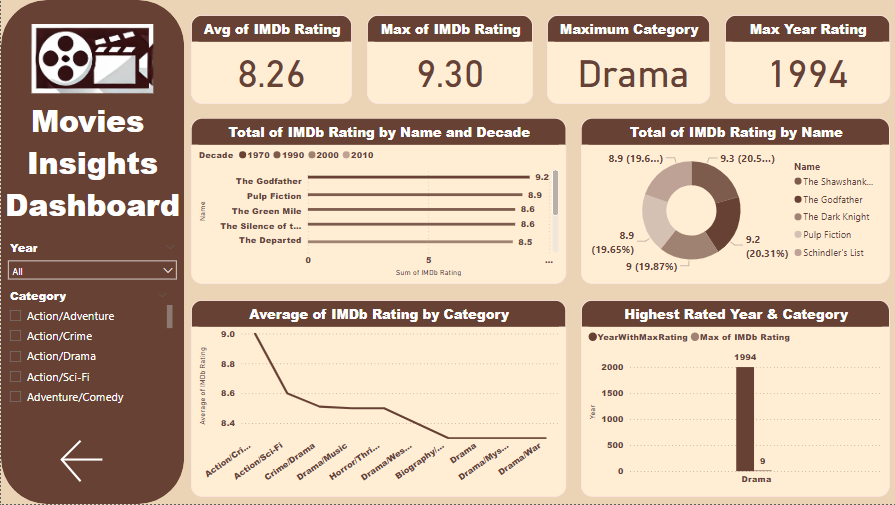

Layout of this report page (visuals, bound fields, positions):
{"tool":"powerbi","page":{"name":"Dashboard","canvas":[1280,720],"ordinal":1},"visuals":[{"type":"shape","box":[0,0,261.7,720],"z":0},{"type":"textbox","box":[0,0,261.4,720],"z":1000},{"type":"actionButton","box":[78.6,621.4,82.9,74.3],"z":2000},{"type":"slicer","fields":{"Values":["Movies.Category"]},"box":[0,405.7,250,178.6],"z":3000},{"type":"lineChart","fields":{"Y":["Avg(Movies.IMDb Rating)"],"Category":["Movies.Category"]},"box":[271.4,428.6,535.7,281.4],"z":4000},{"type":"card","title":"Avg of IMDb Rating","fields":{"Values":["Avg(Movies.IMDb Rating)"]},"box":[271.4,21.4,230,127.1],"z":5000},{"type":"card","title":"Max of IMDb Rating","fields":{"Values":["Max(Movies.IMDb Rating)"]},"box":[522.4,21.4,237.1,127.1],"z":6000},{"type":"donutChart","title":"Total of IMDb Rating by Name","fields":{"Y":["Sum(Movies.IMDb Rating)"],"Category":["Movies.Name"]},"box":[828.6,168.6,441.4,237.1],"z":7000},{"type":"clusteredBarChart","title":"Total of IMDb Rating by Name and Decade","fields":{"Category":["Movies.Name"],"Y":["Sum(Movies.IMDb Rating)"],"Series":["Movies.Decade"]},"box":[271.4,168.6,535.7,237.1],"z":8000},{"type":"clusteredColumnChart","title":"Highest Rated Year & Category","fields":{"Y":["Movies.YearWithMaxRating","Max(Movies.IMDb Rating)"],"Category":["Movies.Category"]},"box":[828.6,428.6,441.4,281.4],"z":9000},{"type":"card","title":"Maximum Category","fields":{"Values":["Movies.CategoryWithMaxRating"]},"box":[780.5,21.4,232.9,127.1],"z":10000},{"type":"card","title":"Max Year Rating","fields":{"Values":["Movies.YearWithMaxRating"]},"box":[1034.3,21.4,235.7,127.1],"z":11000},{"type":"slicer","fields":{"Values":["Movies.Year"]},"box":[0,337.1,261.4,68.6],"z":12000},{"type":"image","box":[38.6,24.3,184.3,118.6],"z":13000}]}

Visuals, with their boxes in screenshot pixels (x1, y1, x2, y2), scaled from the page's 1280x720 canvas onto the 895x505 screenshot:
shape: (left=0, top=0, right=183, bottom=504)
textbox: (left=0, top=0, right=183, bottom=504)
actionButton: (left=55, top=436, right=113, bottom=488)
slicer - Movies.Category: (left=0, top=285, right=175, bottom=410)
lineChart - Avg(Movies.IMDb Rating) x Movies.Category: (left=190, top=301, right=564, bottom=498)
"Avg of IMDb Rating" card: (left=190, top=15, right=351, bottom=104)
"Max of IMDb Rating" card: (left=365, top=15, right=531, bottom=104)
"Total of IMDb Rating by Name" donutChart: (left=579, top=118, right=888, bottom=285)
"Total of IMDb Rating by Name and Decade" clusteredBarChart: (left=190, top=118, right=564, bottom=285)
"Highest Rated Year & Category" clusteredColumnChart: (left=579, top=301, right=888, bottom=498)
"Maximum Category" card: (left=546, top=15, right=709, bottom=104)
"Max Year Rating" card: (left=723, top=15, right=888, bottom=104)
slicer - Movies.Year: (left=0, top=236, right=183, bottom=285)
image: (left=27, top=17, right=156, bottom=100)
